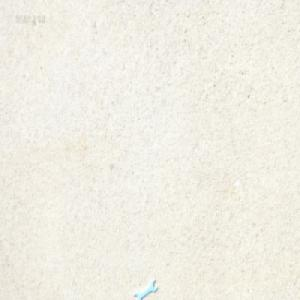Wrench: (133, 276, 157, 298)
